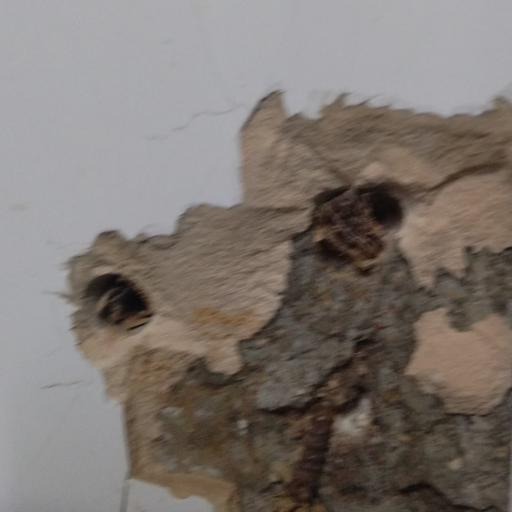spalling: (58, 87, 512, 512)
